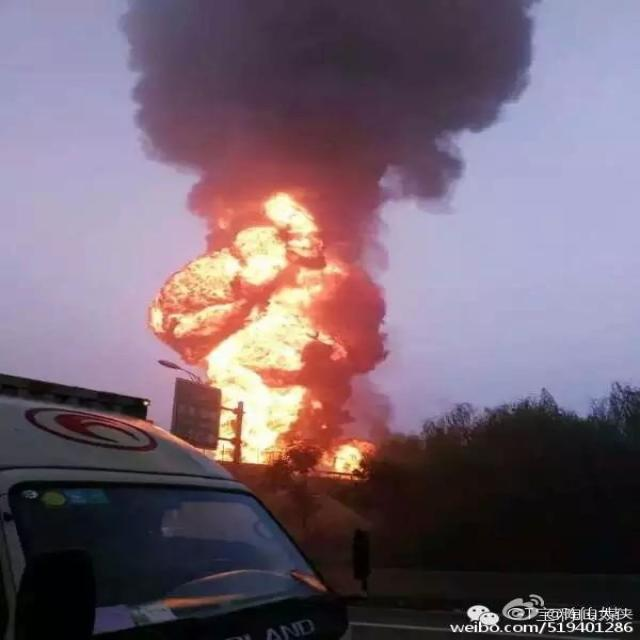Fire: (147, 192, 379, 488)
Smoke: (115, 2, 540, 214)
